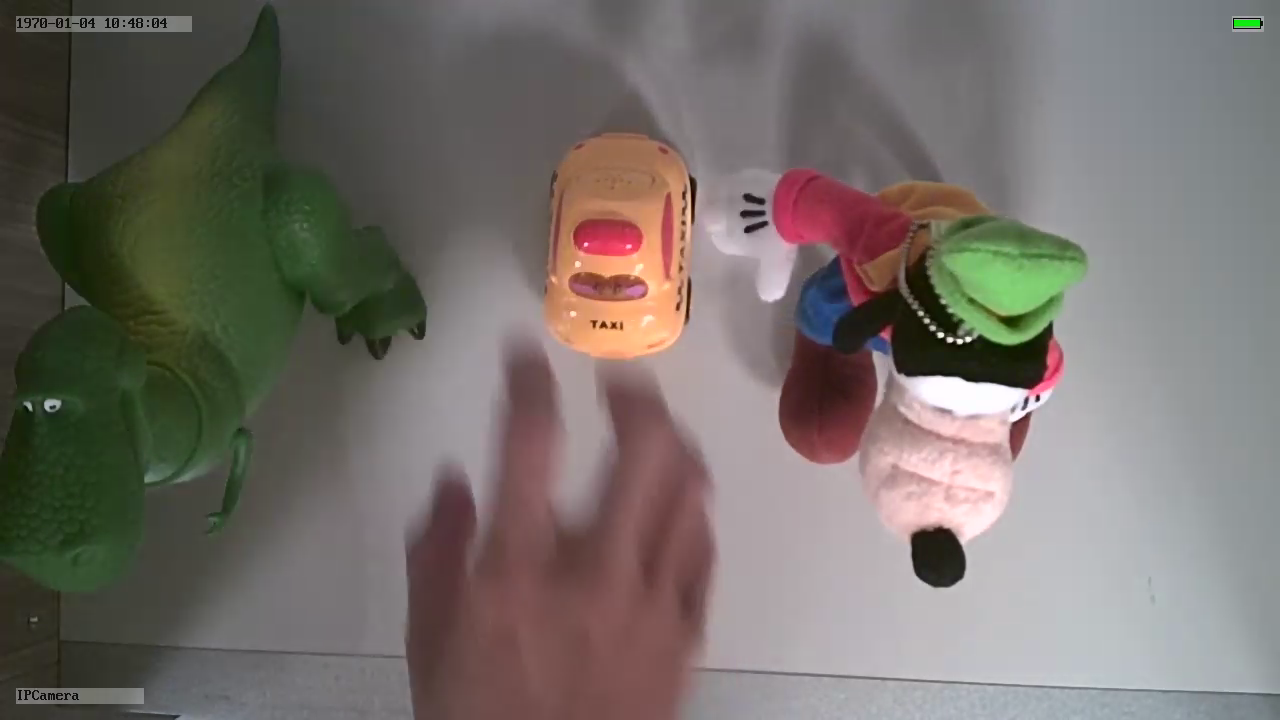goofy: (698, 168, 1086, 601)
